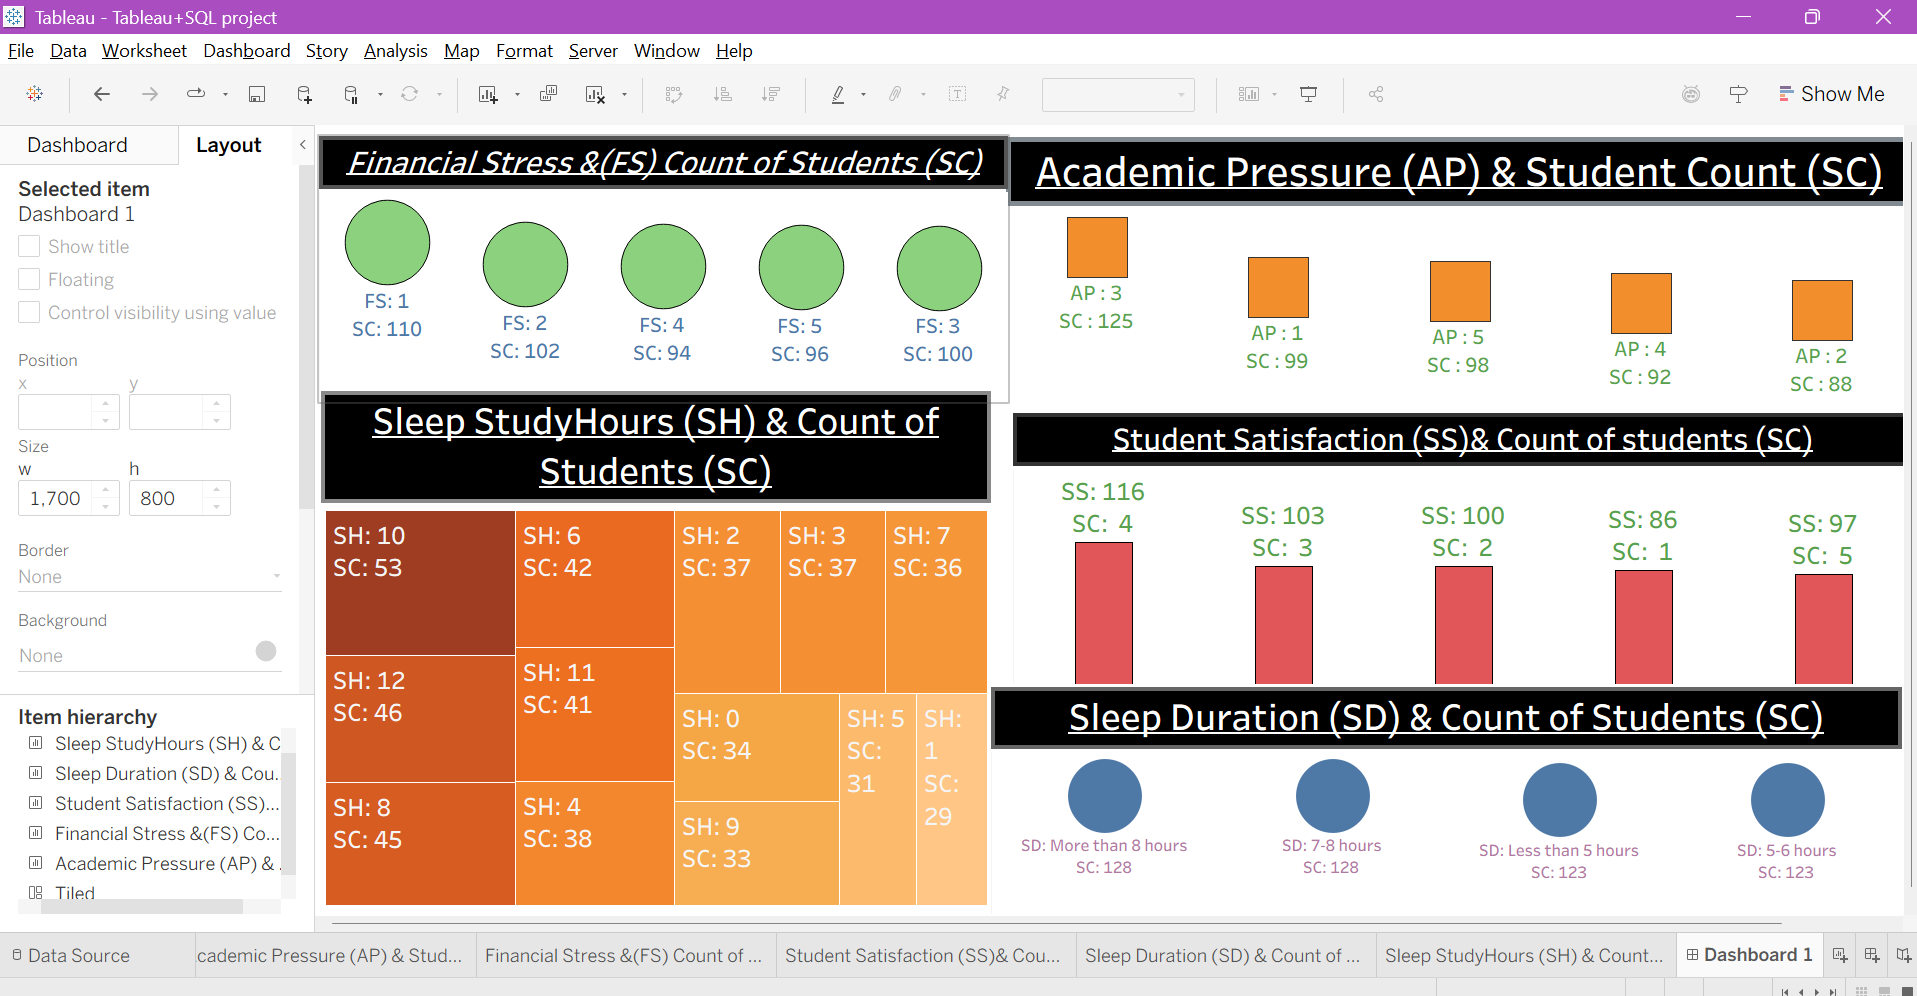

This screenshot's page, from the dashboard's own definition file:
{"tool":"tableau","page":{"name":"Dashboard 1","canvas":[1700,800],"ordinal":0},"visuals":[{"type":"title","box":[8,8,1684,58]},{"type":"worksheet","title":"Financial Stress &(FS) Count of Students (SC)","mark":"Circle","rows":["index_column"],"cols":["Financial_Stress"],"box":[4,11,689,266]},{"type":"worksheet","title":"Academic Pressure (AP) & Student Count (SC)","mark":"Square","rows":["index_column"],"cols":["Academic_Pressure"],"box":[691,12,907,267]},{"type":"worksheet","title":"Sleep StudyHours (SH) & Count of Students (SC)","mark":"Square","box":[6,266,670,519]},{"type":"worksheet","title":"Student Satisfaction (SS)& Count of students (SC)","mark":"Automatic","rows":["index_column"],"cols":["Study_Satisfaction"],"box":[698,288,900,271]},{"type":"worksheet","title":"Sleep Duration (SD) & Count of Students (SC)","mark":"Circle","rows":["index_column"],"cols":["Sleep_Duration"],"box":[676,562,911,227]}]}

Visuals, with their boxes on the page's 1700x800 design canvas (x1, y1, x2, y2). These are canvas units, not pixel positions in the 1917x996 screenshot, which may show the page scaled, cropped or inside an application window:
title: region(8, 8, 1692, 66)
"Financial Stress &(FS) Count of Students (SC)" worksheet (Circle marks): region(4, 11, 693, 277)
"Academic Pressure (AP) & Student Count (SC)" worksheet (Square marks): region(691, 12, 1598, 279)
"Sleep StudyHours (SH) & Count of Students (SC)" worksheet (Square marks): region(6, 266, 676, 785)
"Student Satisfaction (SS)& Count of students (SC)" worksheet: region(698, 288, 1598, 559)
"Sleep Duration (SD) & Count of Students (SC)" worksheet (Circle marks): region(676, 562, 1587, 789)
